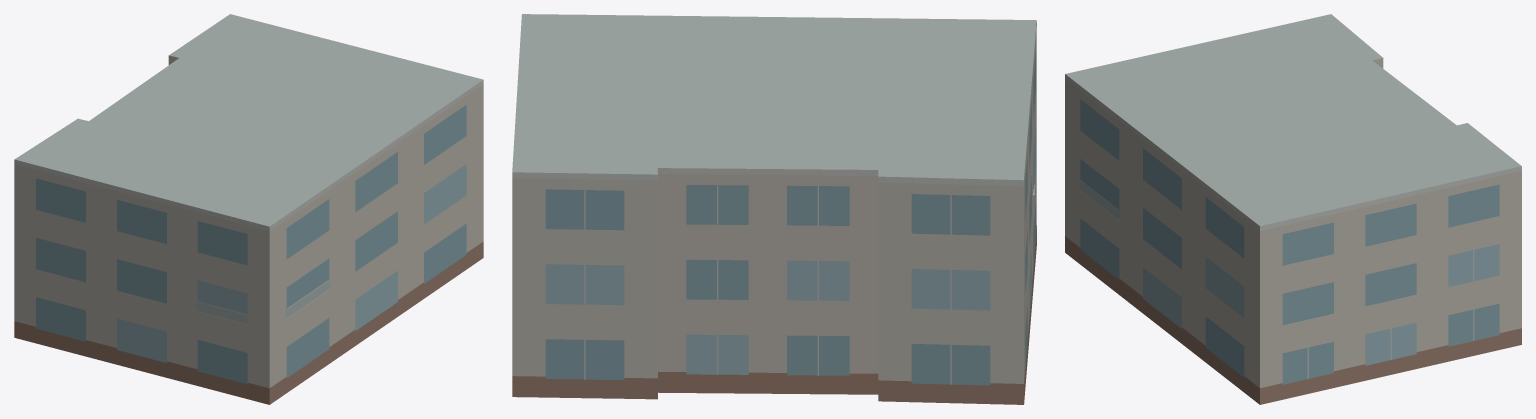
File: survey-upis-32960700.glb
The picture shows the model from 3 angles, left to right: view 1: azimuth 30°, elevation 25°; view 2: azimuth 150°, elevation 25°; view 3: azimuth 270°, elevation 25°; orthographic projection. The views are drawn at different scales.
Parts seen in each view (by area): view 1: survey-upis-32960700.tmp; view 2: survey-upis-32960700.tmp; view 3: survey-upis-32960700.tmp.
Boxes of the visible parts, x1,y1,x2,y2 form: survey-upis-32960700.tmp: (14,14,483,404); survey-upis-32960700.tmp: (512,14,1036,404); survey-upis-32960700.tmp: (1065,14,1521,404).
Bounding box in the file's own units: 23.31 × 9.15 × 21.2.
